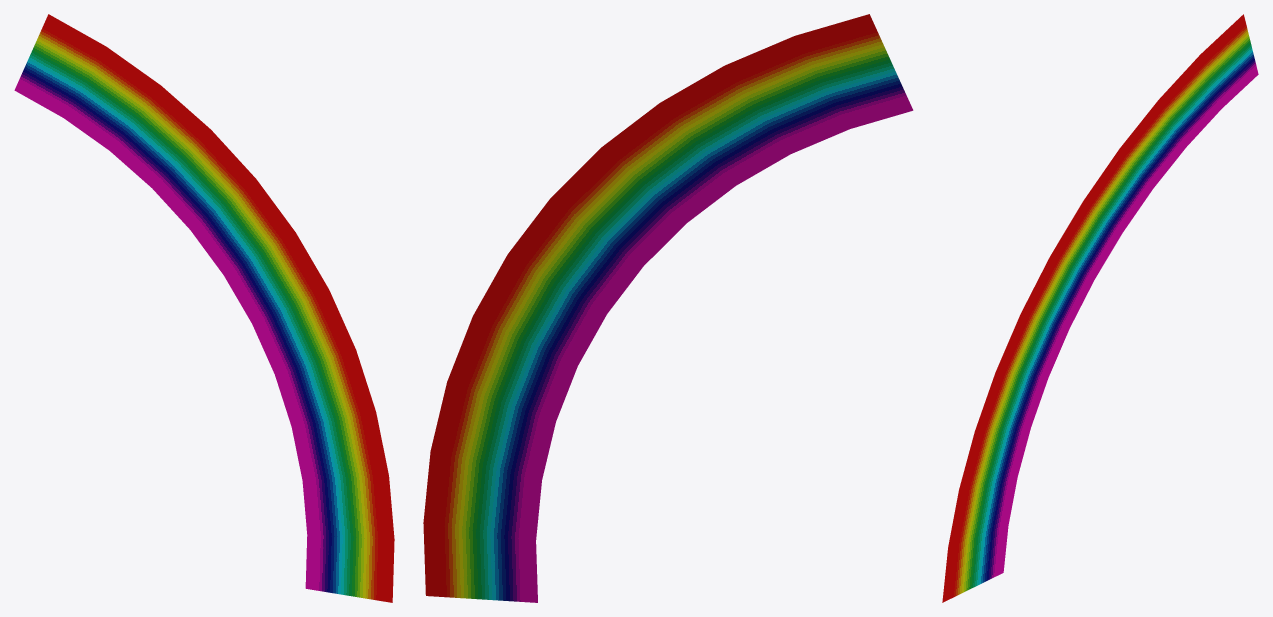
File: 10104_Rainbow.FBX
The picture shows the model from 3 angles, left to right: view 1: azimuth 30°, elevation 25°; view 2: azimuth 210°, elevation 25°; view 3: azimuth 270°, elevation 25°; orthographic projection. The views are drawn at different scales.
Parts seen in each view (by area): view 1: Plane023; view 2: Plane023; view 3: Plane023.
Part boxes in pixels (x1=…): Plane023: x1=14, y1=14, x2=394, y2=602; Plane023: x1=423, y1=14, x2=913, y2=602; Plane023: x1=942, y1=14, x2=1258, y2=602.
Size of the model in its own units: 569 by 1292 by 740.
1 material, 1 textured.
